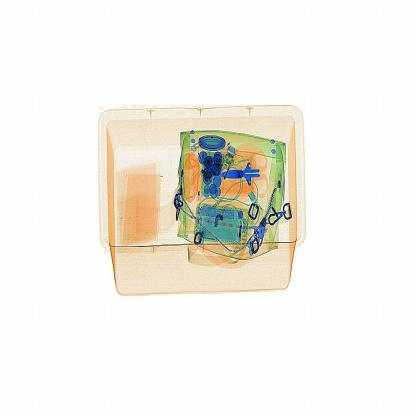gun: (215, 144, 275, 200)
